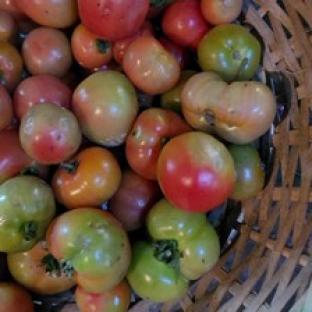Tomato: (127, 198, 220, 302), (46, 208, 130, 292), (182, 72, 275, 143), (158, 131, 235, 211), (72, 70, 139, 146), (126, 108, 192, 179), (52, 147, 121, 208), (0, 176, 55, 252), (20, 102, 82, 164), (127, 240, 189, 302), (7, 240, 75, 295), (197, 24, 261, 82), (123, 37, 181, 94), (109, 169, 161, 231), (0, 129, 50, 183), (13, 74, 72, 119), (21, 27, 72, 77), (228, 144, 264, 200), (72, 23, 112, 69), (113, 20, 154, 64), (74, 280, 130, 311), (161, 70, 197, 114), (158, 35, 190, 71), (0, 41, 23, 91), (0, 282, 34, 311), (0, 9, 18, 43), (0, 84, 13, 130)
